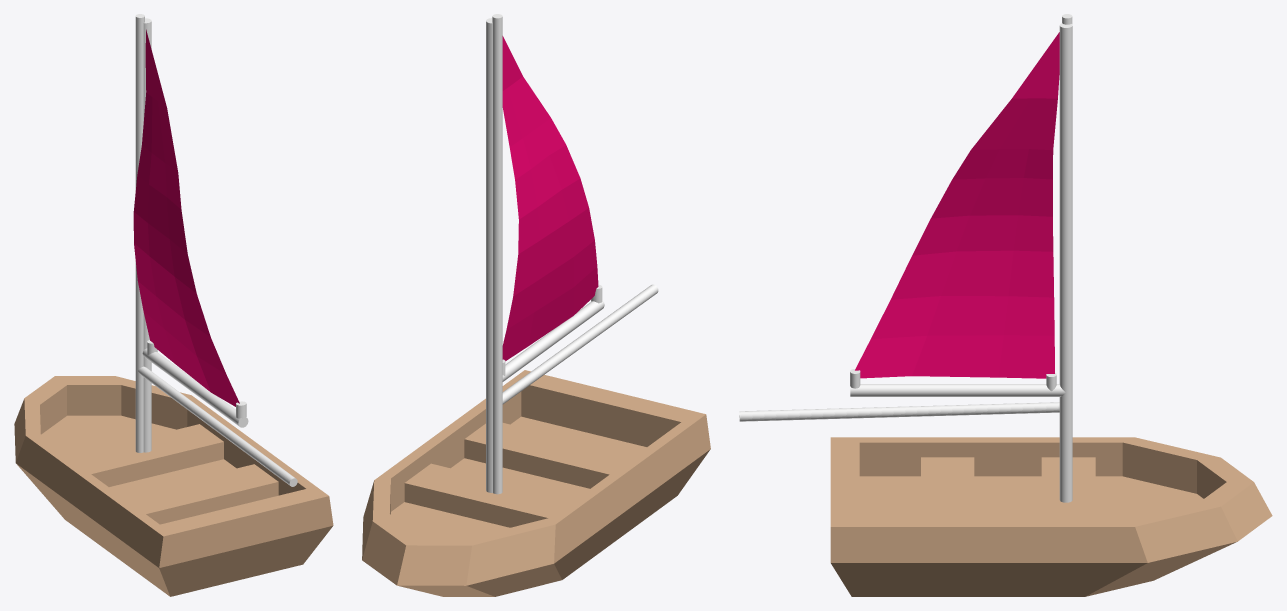
The model's file is boat.glb.
3 renders of one model, left to right at view 1: azimuth 30°, elevation 25°; view 2: azimuth 150°, elevation 25°; view 3: azimuth 270°, elevation 25°, orthographic. The views are drawn at different scales.
Parts seen in each view (by area): view 1: boat_large_8angles, Plane, Cylinder, Vert, Cylinder.001; view 2: boat_large_8angles, Plane, Vert, Cylinder, Cylinder.001; view 3: boat_large_8angles, Plane, Vert, Cylinder.001.
Part boxes in pixels (<box>): boat_large_8angles: <box>14,376,333,596</box>; Plane: <box>133,29,239,406</box>; Cylinder: <box>135,14,144,452</box>; Vert: <box>142,18,248,452</box>; Cylinder.001: <box>138,366,297,486</box>; boat_large_8angles: <box>362,370,710,596</box>; Plane: <box>502,36,598,361</box>; Vert: <box>486,18,604,492</box>; Cylinder: <box>492,14,502,494</box>; Cylinder.001: <box>502,284,658,404</box>; boat_large_8angles: <box>830,437,1272,596</box>; Plane: <box>855,32,1059,378</box>; Vert: <box>850,23,1072,502</box>; Cylinder.001: <box>739,402,1059,421</box>.
Size of the model in its own units: 2.2 by 5.95 by 5.27.
